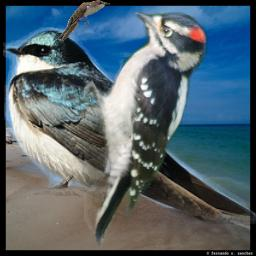Cuckoo: (56, 0, 110, 41)
Swallow: (3, 27, 256, 224)
Woodpecker: (84, 5, 210, 248)
